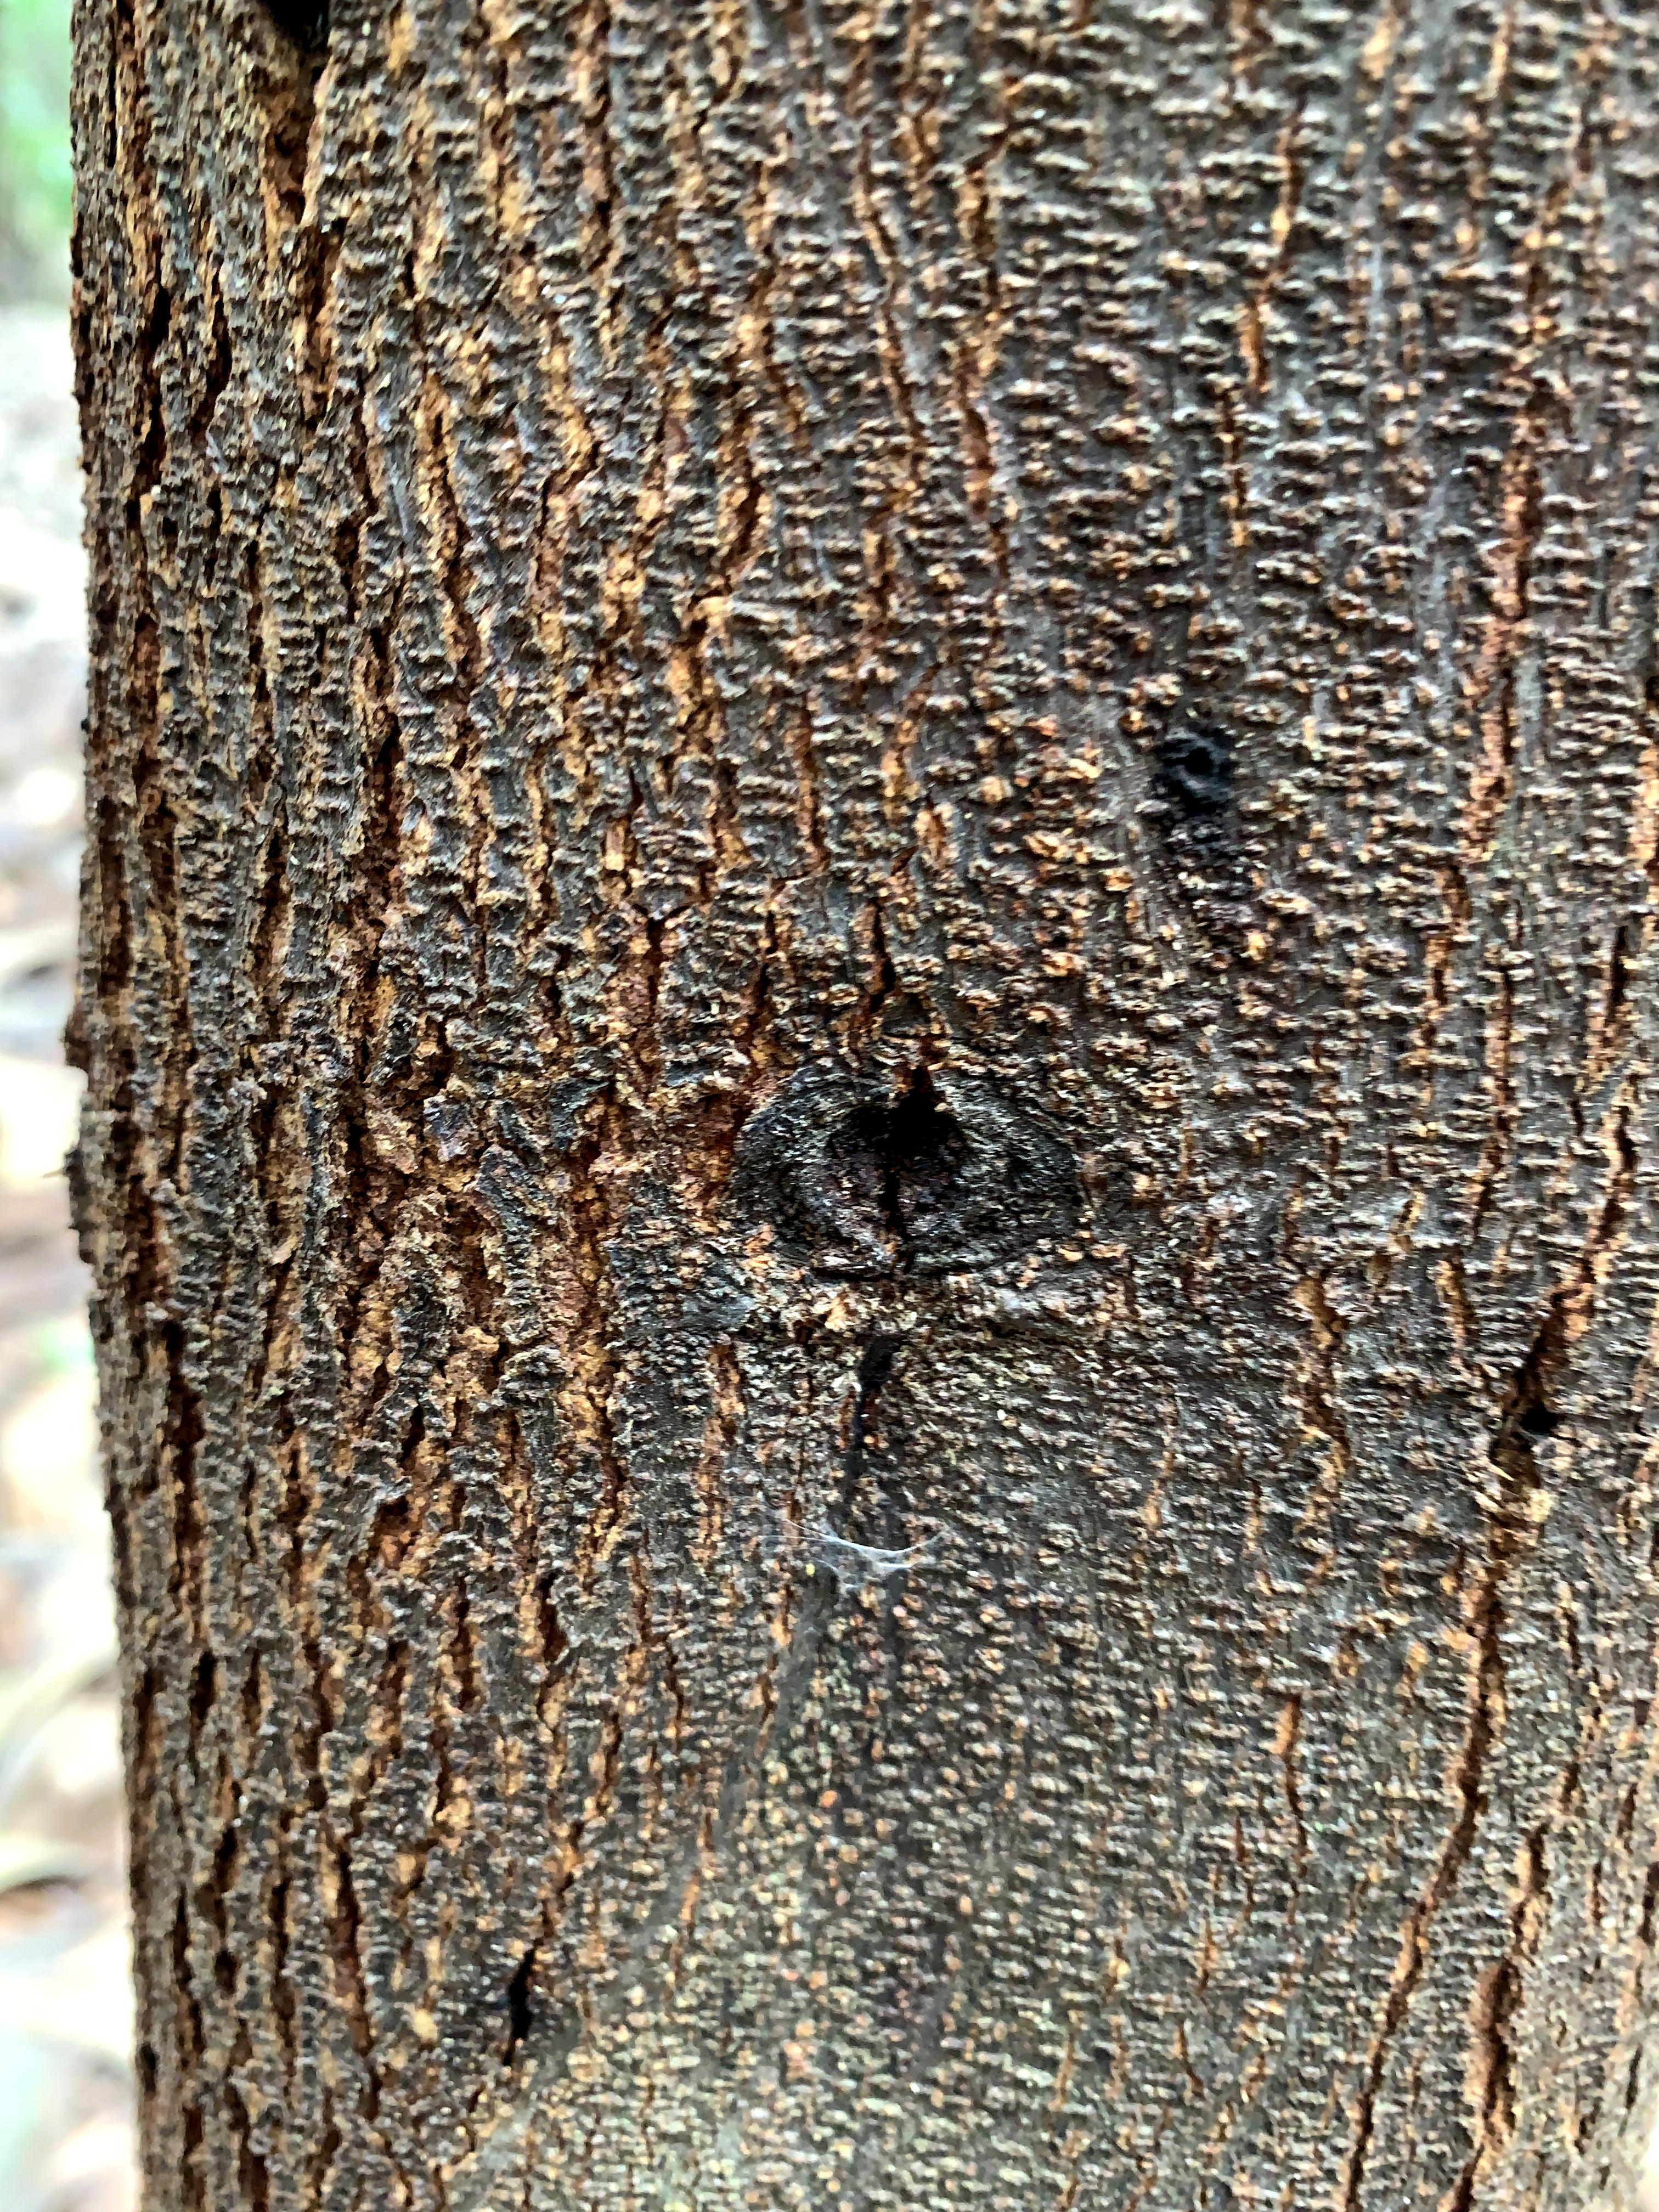Stem Borer: (1335, 1082, 1659, 1768), (735, 885, 1070, 1421), (166, 0, 375, 275), (1110, 648, 1267, 920), (451, 1949, 587, 2097)
